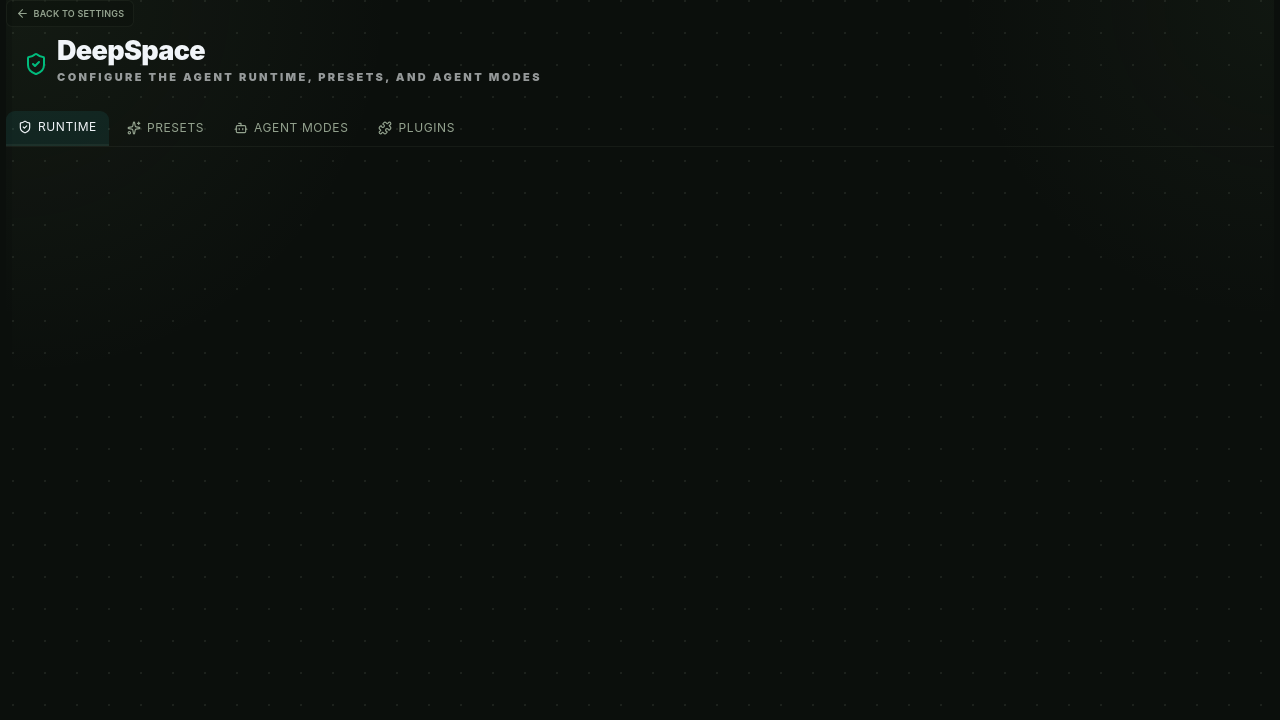
Test: DeepSpace preset and mode synchronization › updates real-time when a preset change event is broadcast
Step 1. Click the tab "Agent Modes" → click(291, 128), box [222, 110, 360, 146]
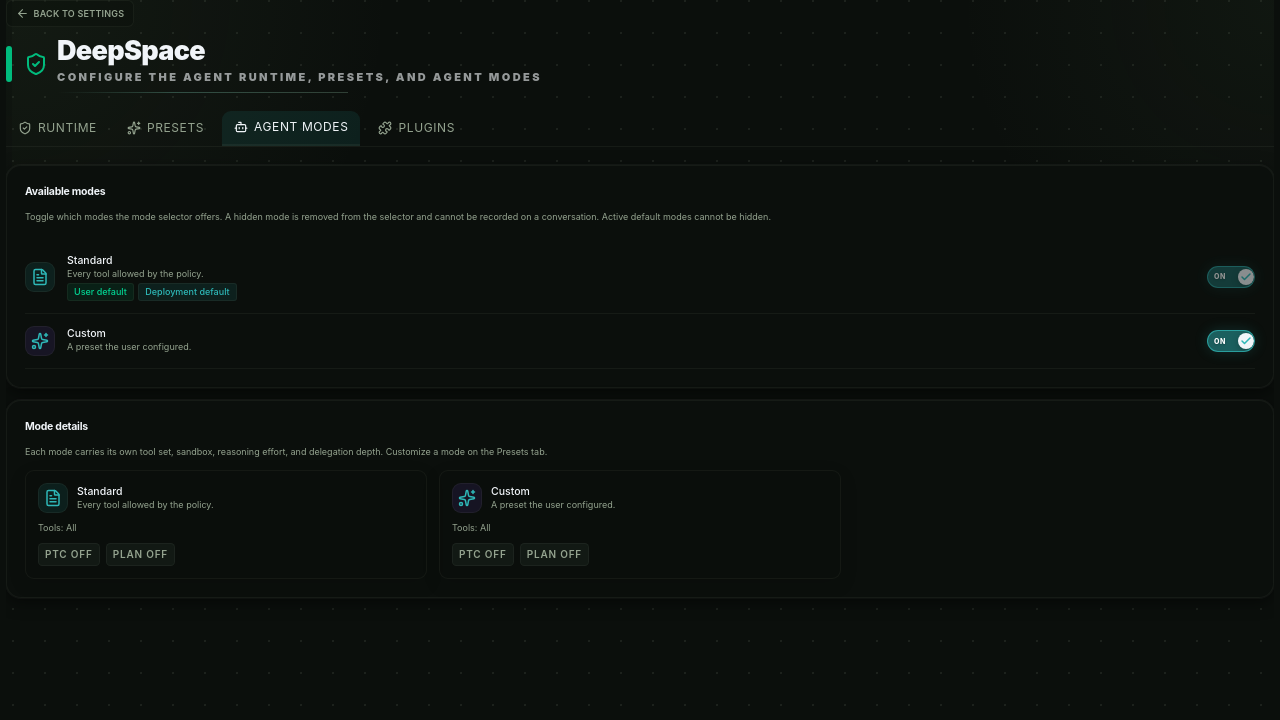
Expected: the heading "Available modes" is shown, [25, 184, 105, 198]
Expected: the text "User default" is shown, [67, 282, 134, 301]
